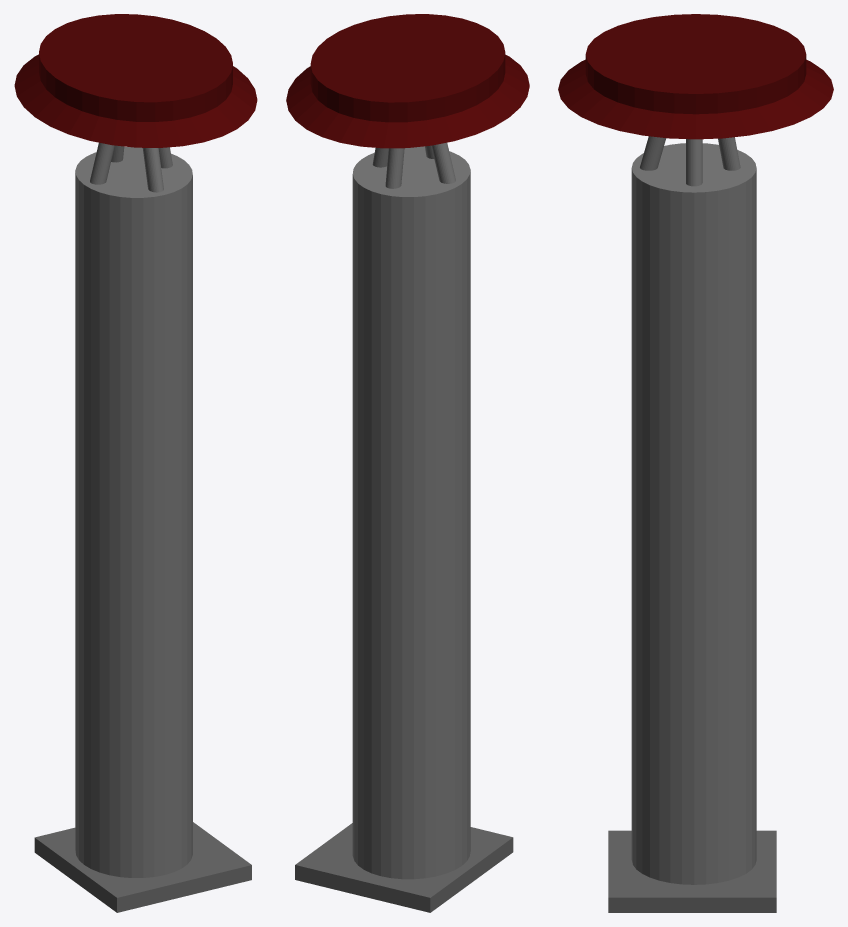
File: PedestrianLamp.fbx
3 views of the same model, side by side, from view 1: azimuth 30°, elevation 25°; view 2: azimuth 150°, elevation 25°; view 3: azimuth 270°, elevation 25° (orthographic).
Visible parts, largest first — view 1: Cylinder, Cylinder.001, Cube, Cylinder.004, Cylinder.003; view 2: Cylinder, Cylinder.001, Cube, Cylinder.003, Cylinder.005; view 3: Cylinder, Cylinder.001, Cube, Cylinder.002, Cylinder.004, Cylinder.005.
Part boxes in pixels (x1,y1,x2,y2): Cylinder: [75, 147, 192, 877]; Cylinder.001: [14, 14, 257, 147]; Cube: [34, 822, 251, 912]; Cylinder.004: [142, 148, 163, 192]; Cylinder.003: [90, 142, 114, 184]; Cylinder: [352, 146, 470, 879]; Cylinder.001: [286, 14, 529, 148]; Cube: [295, 823, 513, 912]; Cylinder.003: [431, 142, 455, 183]; Cylinder.005: [385, 148, 404, 188]; Cylinder: [631, 143, 756, 884]; Cylinder.001: [558, 14, 833, 139]; Cube: [608, 830, 776, 912]; Cylinder.002: [686, 139, 702, 186]; Cylinder.004: [640, 136, 665, 170]; Cylinder.005: [718, 137, 740, 170].
Bounding box in the file's own units: 153 × 589 × 178.
